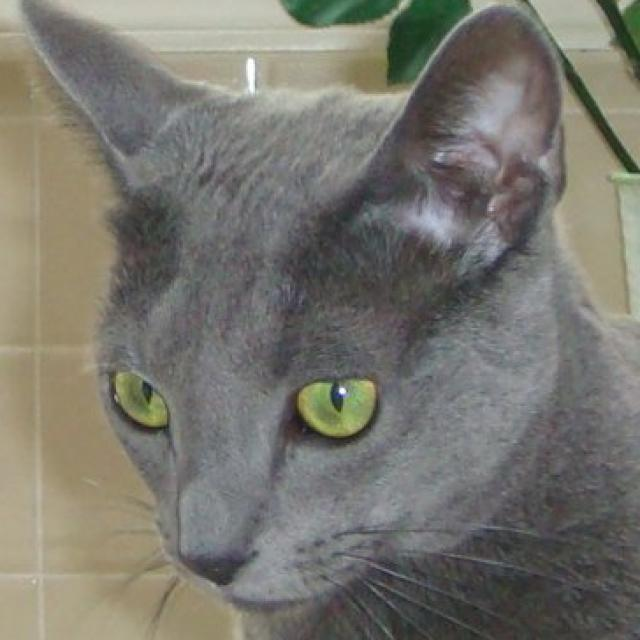Russian Blue: (14, 0, 640, 640)
